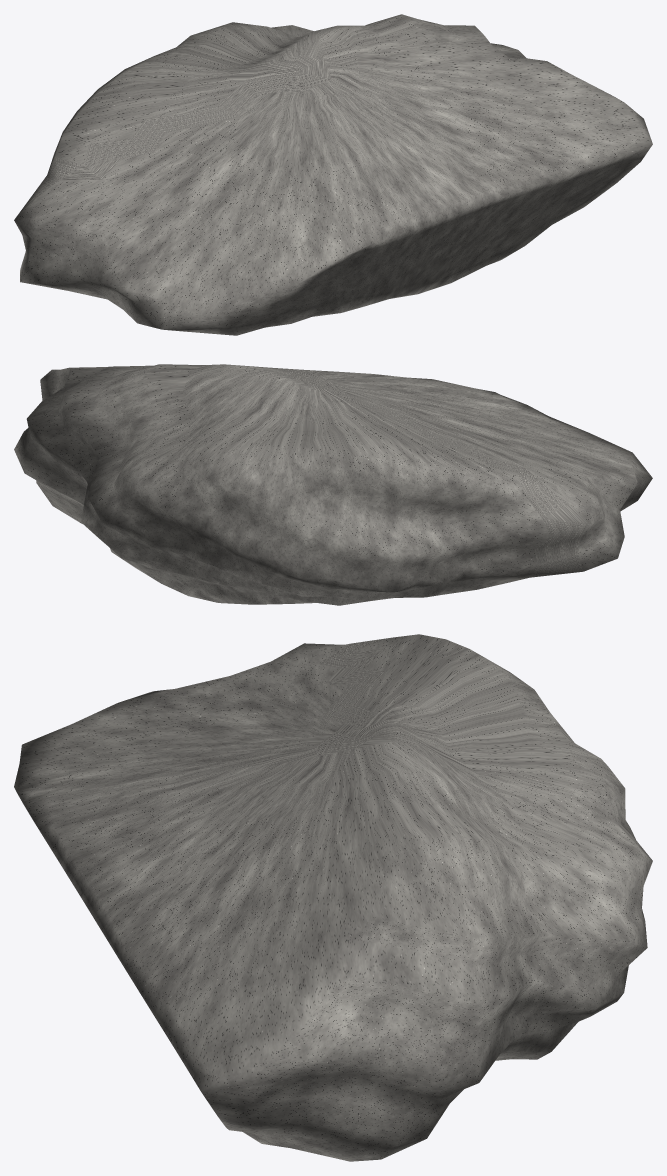
The model's file is obstacle_mid_2.dae.
3 renders of one model, top to bottom at view 1: azimuth 30°, elevation 25°; view 2: azimuth 150°, elevation 25°; view 3: azimuth 270°, elevation 25°, orthographic. The views are drawn at different scales.
Visible parts, largest first — view 1: obstacle_mid_2; view 2: obstacle_mid_2; view 3: obstacle_mid_2.
Part boxes in pixels (<box>): obstacle_mid_2: <box>14,14,652,335</box>; obstacle_mid_2: <box>14,364,652,605</box>; obstacle_mid_2: <box>14,634,652,1161</box>.
Bounding box in the file's own units: 1 × 0.6526 × 0.3346.
1 material, 1 textured.
